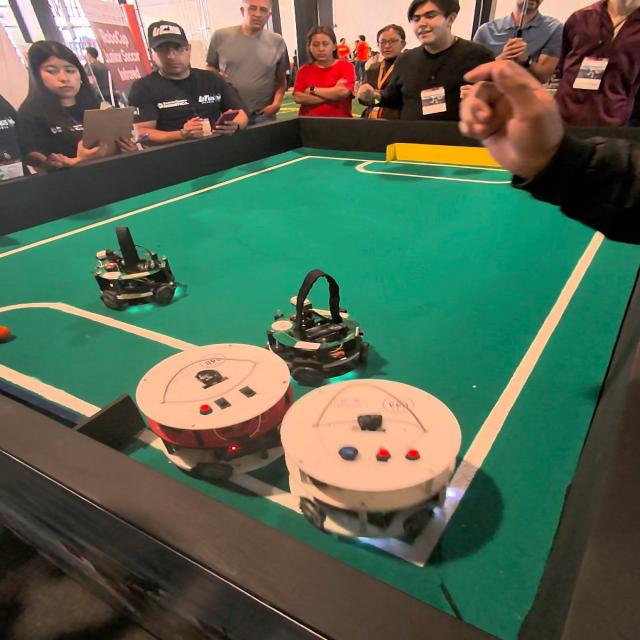Robot: (293, 387, 459, 525), (124, 343, 297, 470), (269, 260, 363, 383), (95, 224, 183, 314)
pelota: (0, 325, 12, 341)
